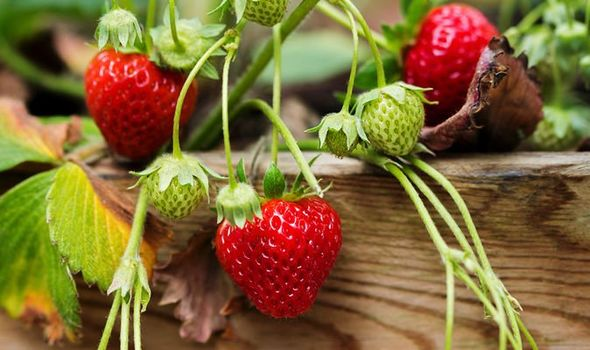ripe: (212, 193, 344, 325), (85, 37, 205, 164), (404, 2, 524, 113)
unripe: (139, 149, 215, 229), (356, 83, 427, 161), (93, 4, 146, 55), (219, 179, 265, 227), (319, 114, 366, 158), (230, 0, 296, 30)
